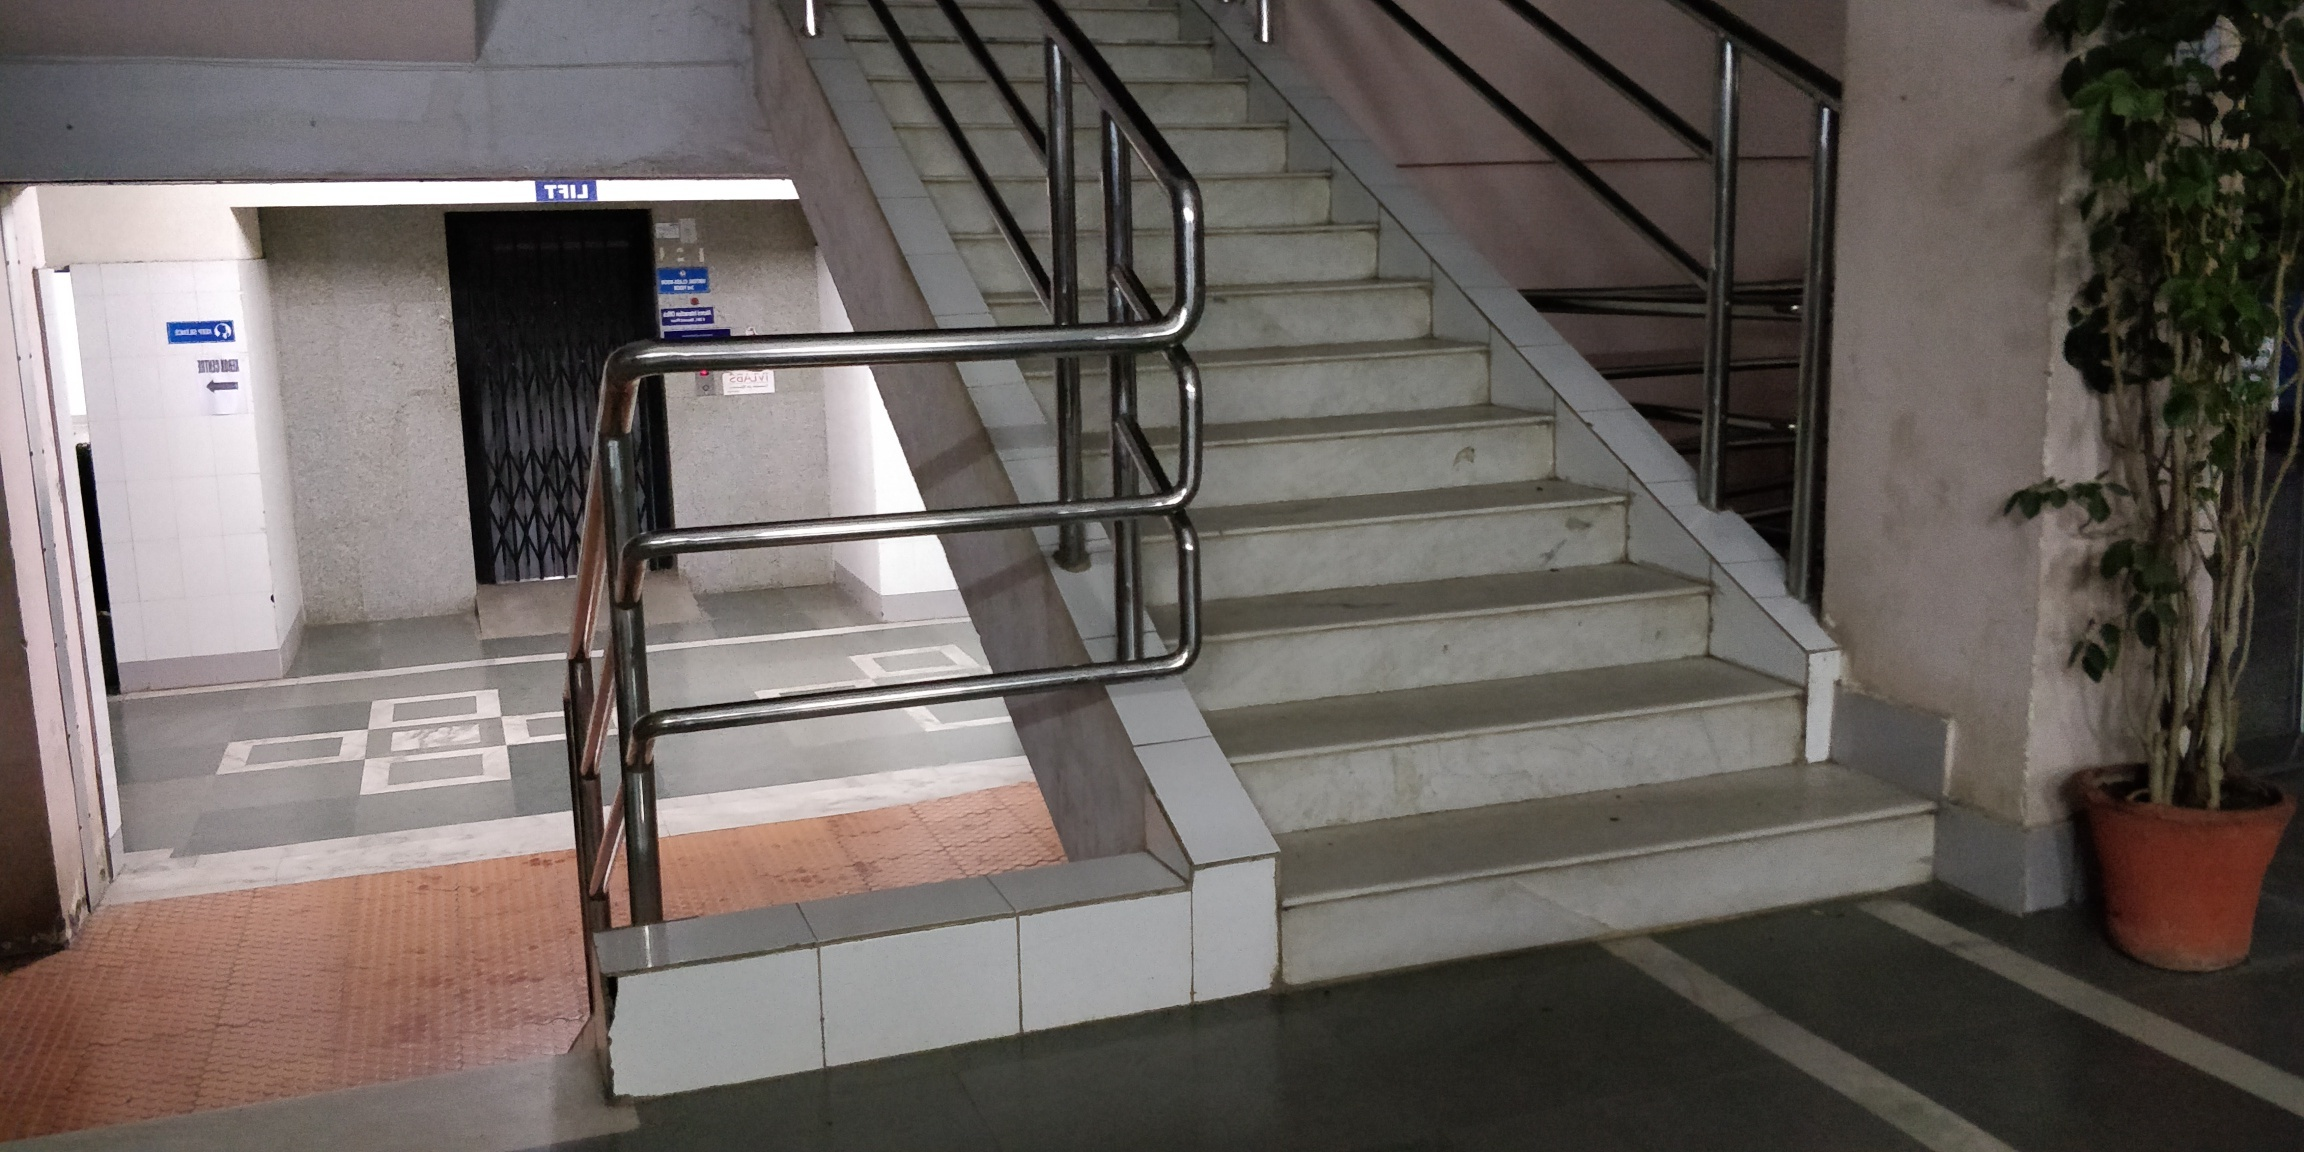stairs_up: (957, 37, 1941, 935)
